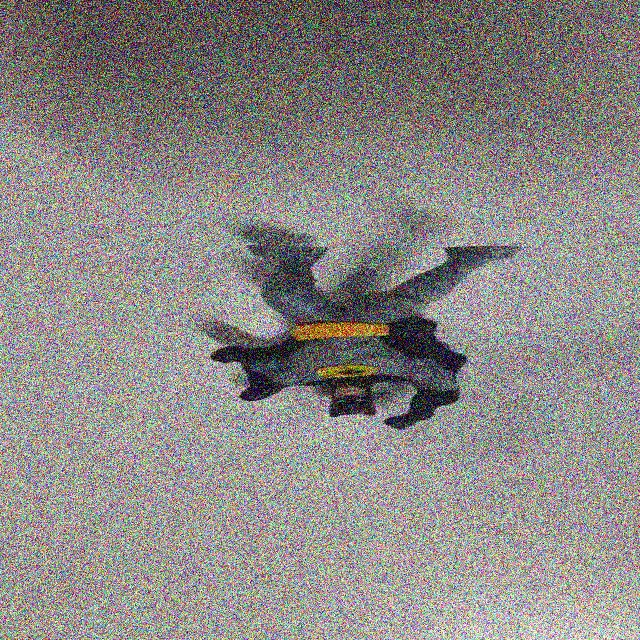Batman: (193, 223, 532, 437)
